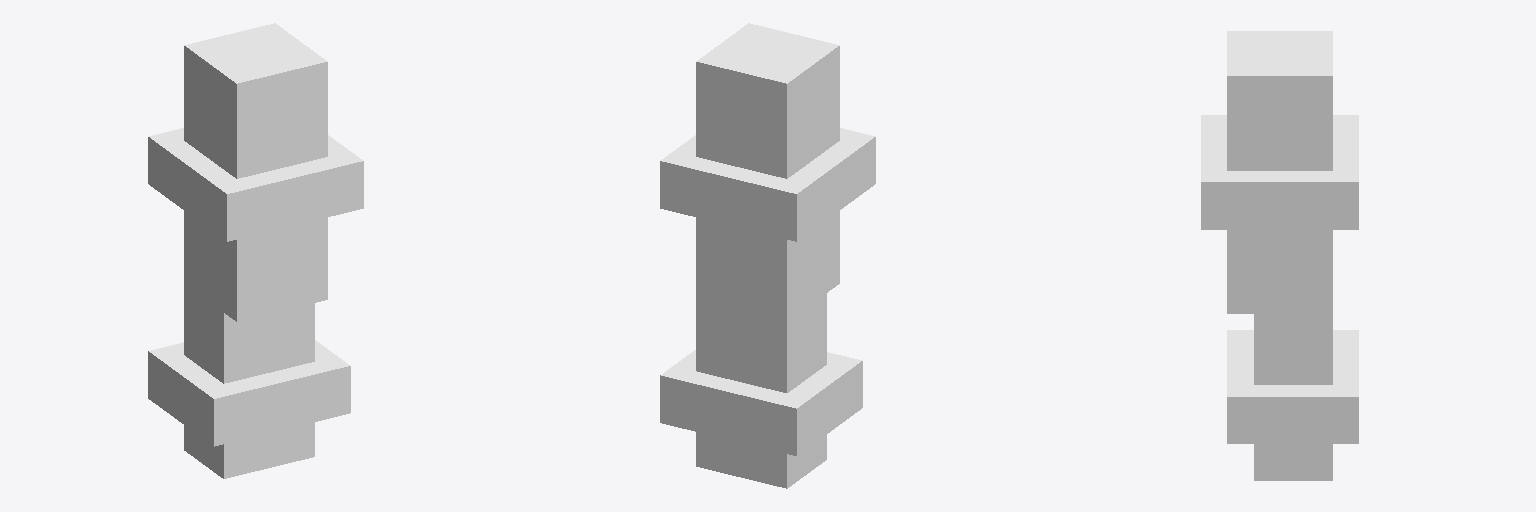
File: game-2.obj
3 renders of one model, left to right at view 1: azimuth 30°, elevation 25°; view 2: azimuth 150°, elevation 25°; view 3: azimuth 270°, elevation 25°, orthographic.
Visible parts, largest first — view 1: object 1; view 2: object 1; view 3: object 1.
Boxes of the visible parts, box(x1,y1,x2,y2) form: object 1: box(148, 23, 363, 478); object 1: box(660, 23, 875, 488); object 1: box(1201, 31, 1358, 480).
Size of the model in its own units: 0.6 by 1.7 by 0.6.